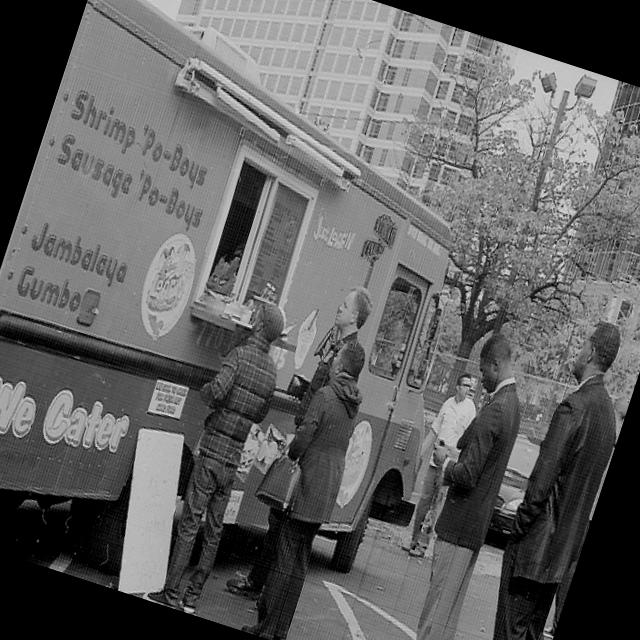Vehicle: (0, 0, 538, 640), (481, 467, 532, 553)
